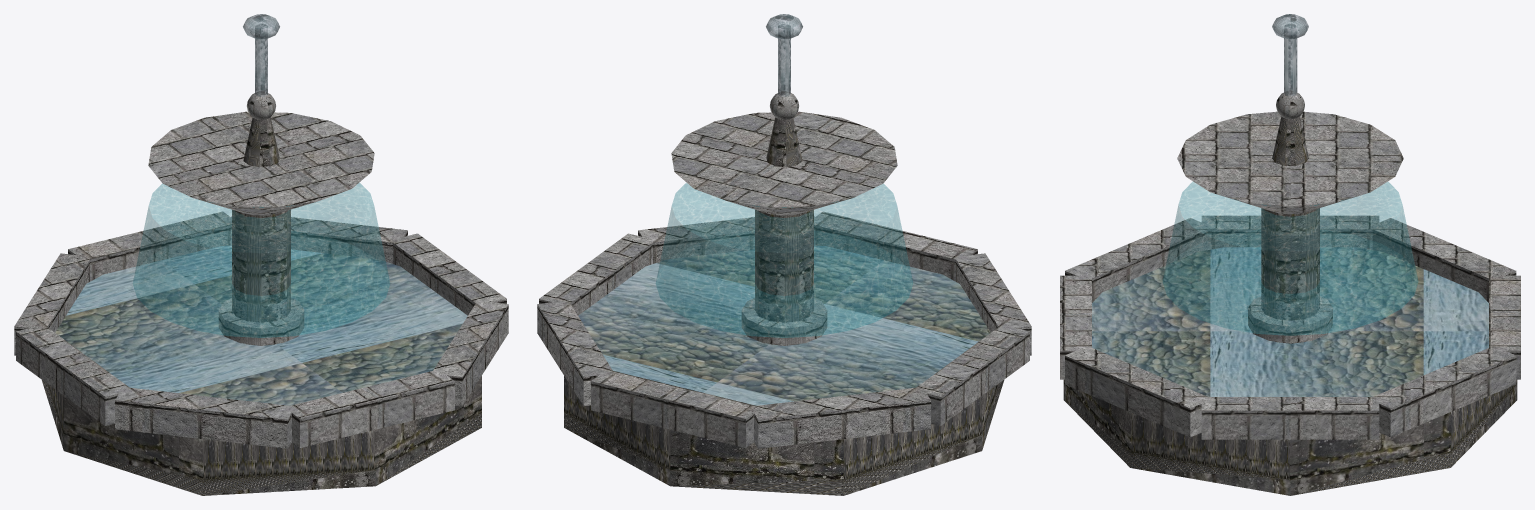
Rendered from fuente.glb.
The picture shows the model from 3 angles, left to right: view 1: azimuth 30°, elevation 25°; view 2: azimuth 150°, elevation 25°; view 3: azimuth 270°, elevation 25°; orthographic projection.
Visible parts, largest first — view 1: pieza; view 2: pieza; view 3: pieza.
Part boxes in pixels (<box>): pieza: <box>14,14,508,495</box>; pieza: <box>537,14,1031,495</box>; pieza: <box>1060,14,1520,495</box>.
Bounding box in the file's own units: 3.46 × 3.17 × 3.45.
Materials: 6 (6 with a texture image).
